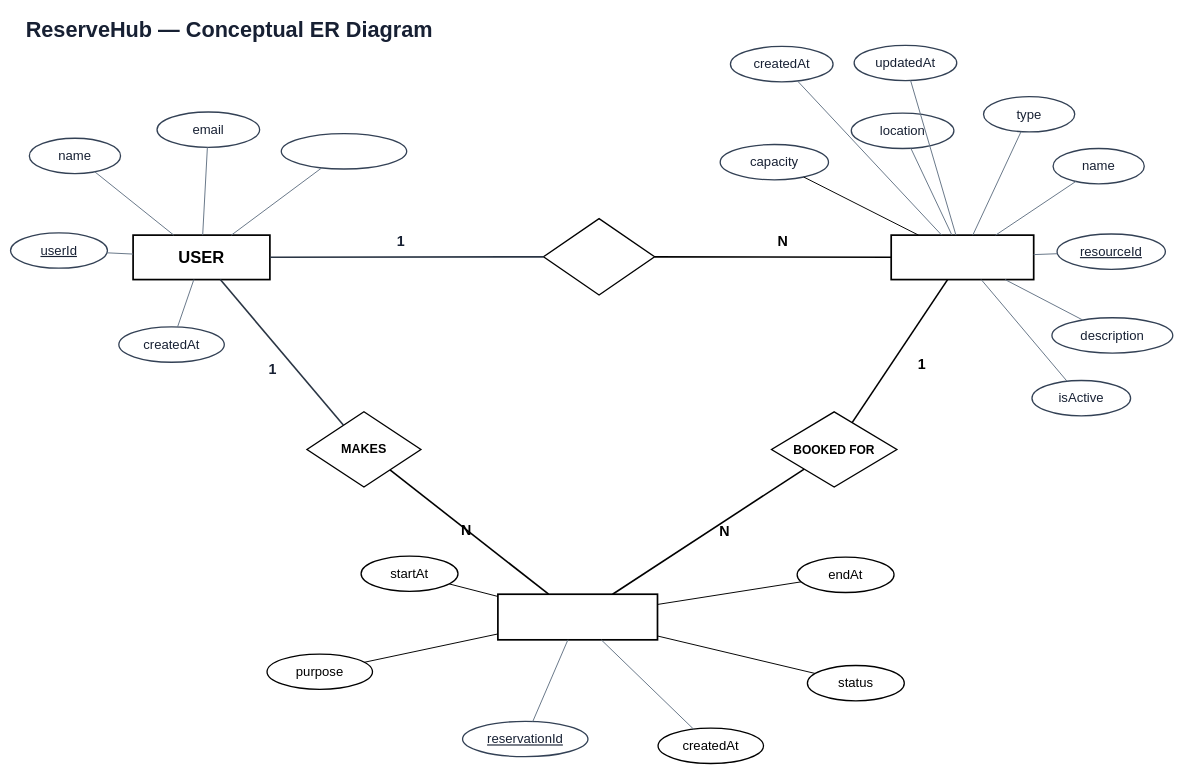
Some shapes in this 1183 by 774 pixel diagram are drawn without their labels. The shapes that lost their labels are listed below. From the top down, each one's centre as x and y in pixels, then its label:
At point 343,151: "passwordHash".
At point 599,256: "CREATES".
At point 962,257: "RESOURCE".
At point 577,616: "RESERVATION".
